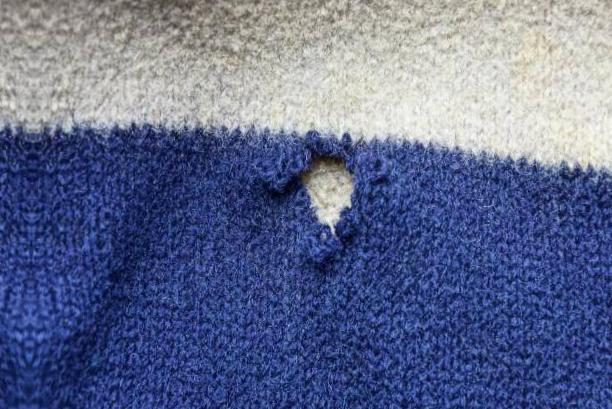hole: (286, 146, 371, 239)
